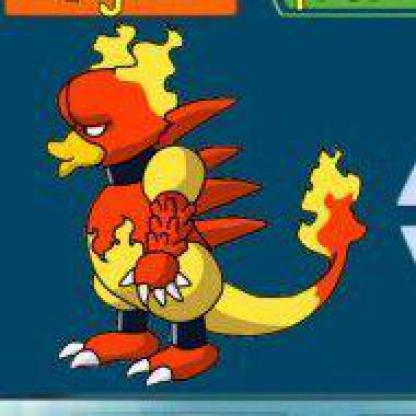Magmar: (34, 8, 402, 415)
